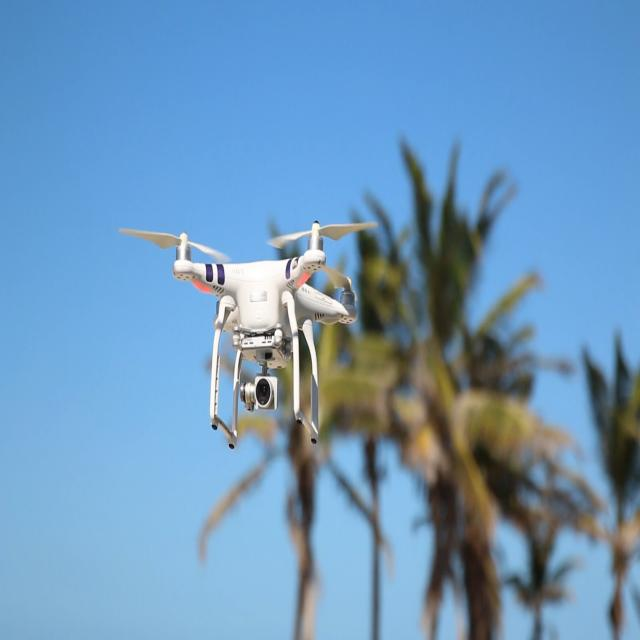Drone: (127, 195, 426, 466)
